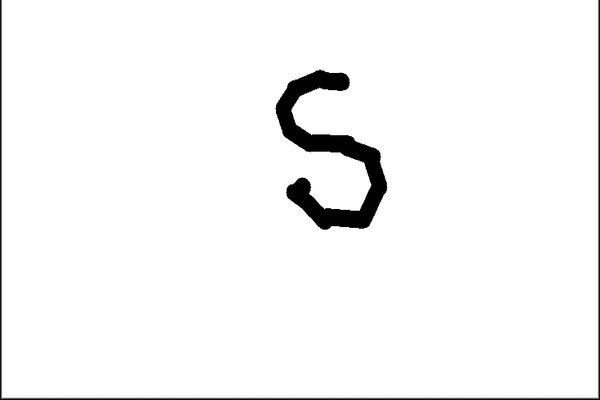S: (270, 65, 395, 239)
